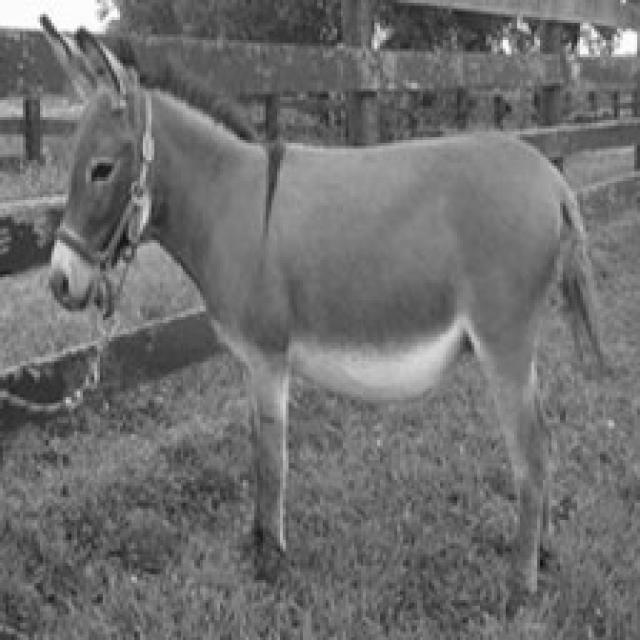Donkey: (37, 11, 609, 620)
